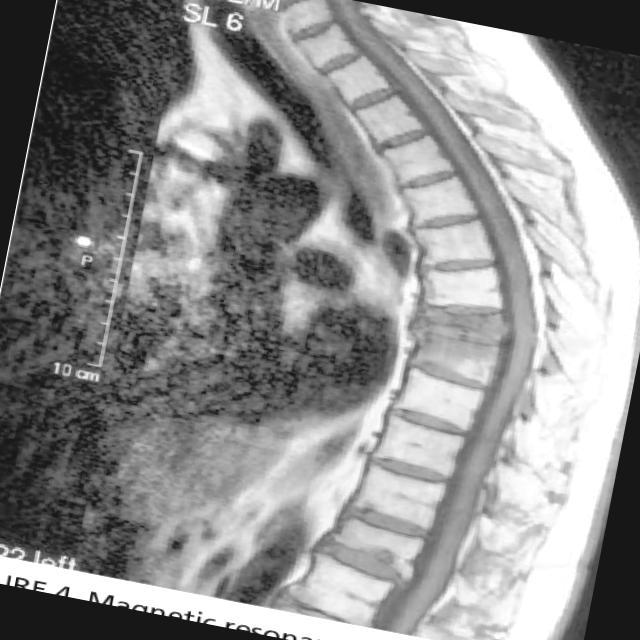Compression-Crush Fracutre: (392, 301, 509, 385)
